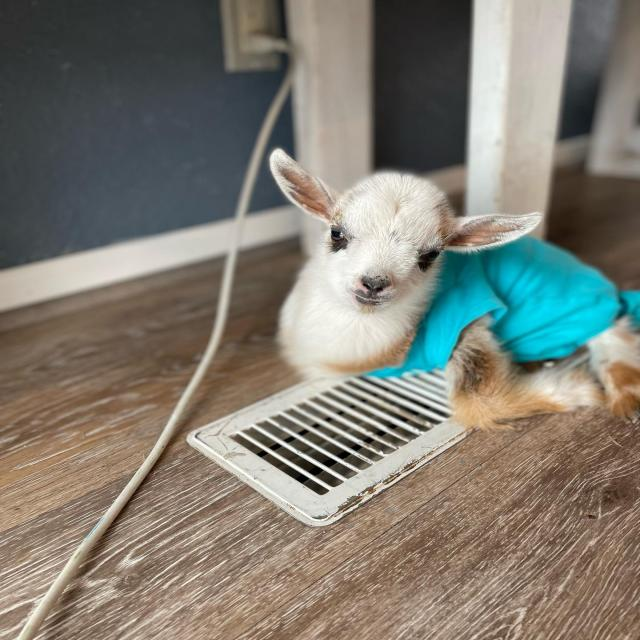goat: (249, 130, 640, 438)
